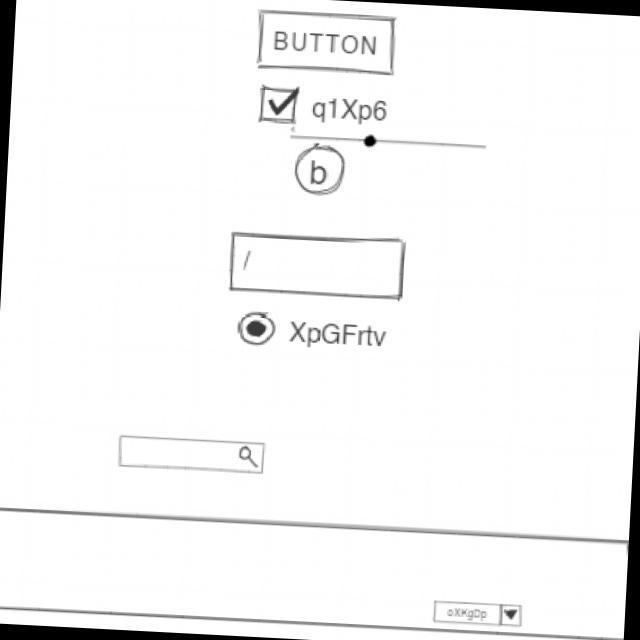button: (256, 5, 398, 80)
checkbox: (258, 82, 394, 131)
container: (1, 501, 630, 640)
icon-button: (293, 144, 350, 199)
input: (228, 230, 409, 307)
radio: (235, 307, 392, 359)
search: (117, 434, 270, 479)
select: (431, 600, 526, 629)
slider: (288, 128, 495, 158)
